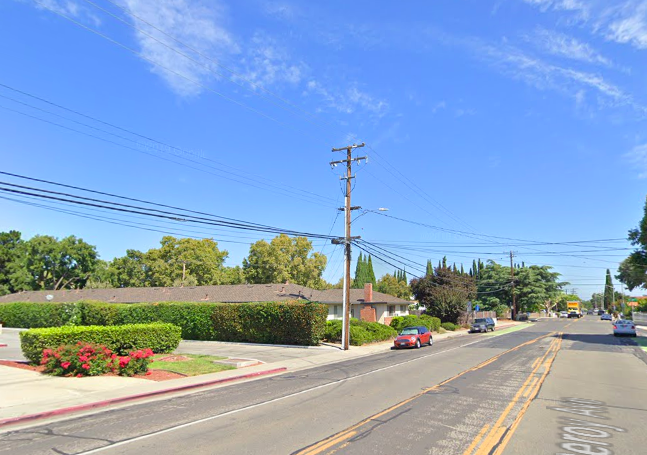utility_pole: (323, 134, 371, 219)
